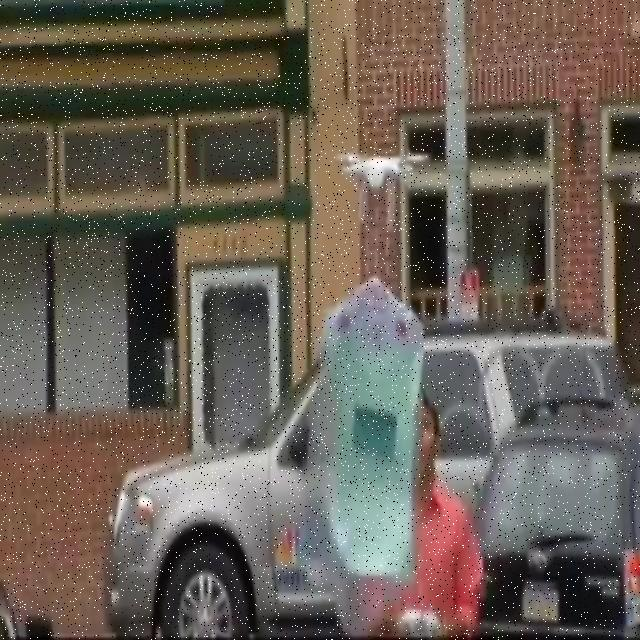UAV: (334, 151, 432, 233)
